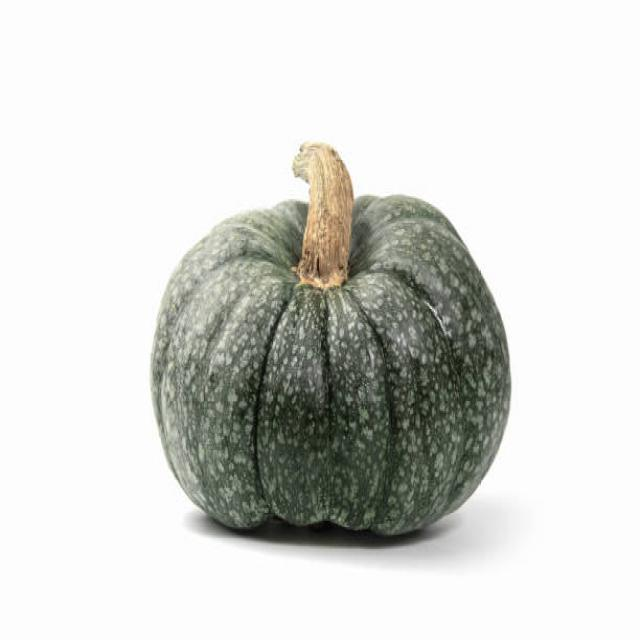Pumpkin: (147, 172, 513, 541)
